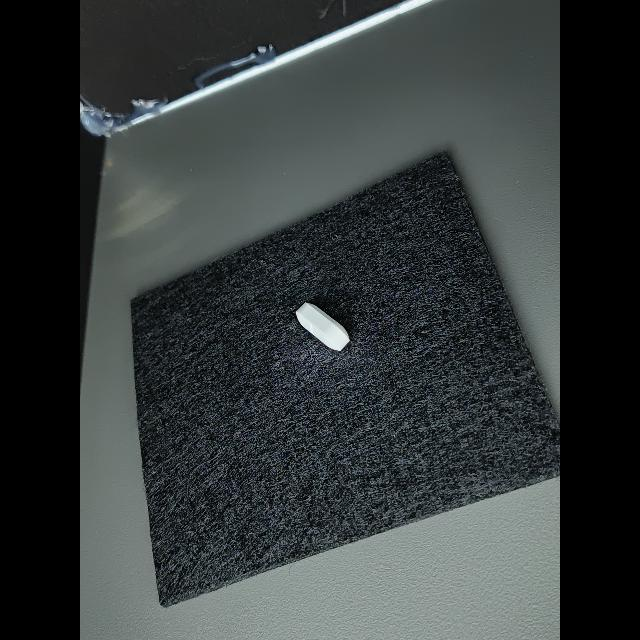Intact Pill: (296, 302, 350, 351)
